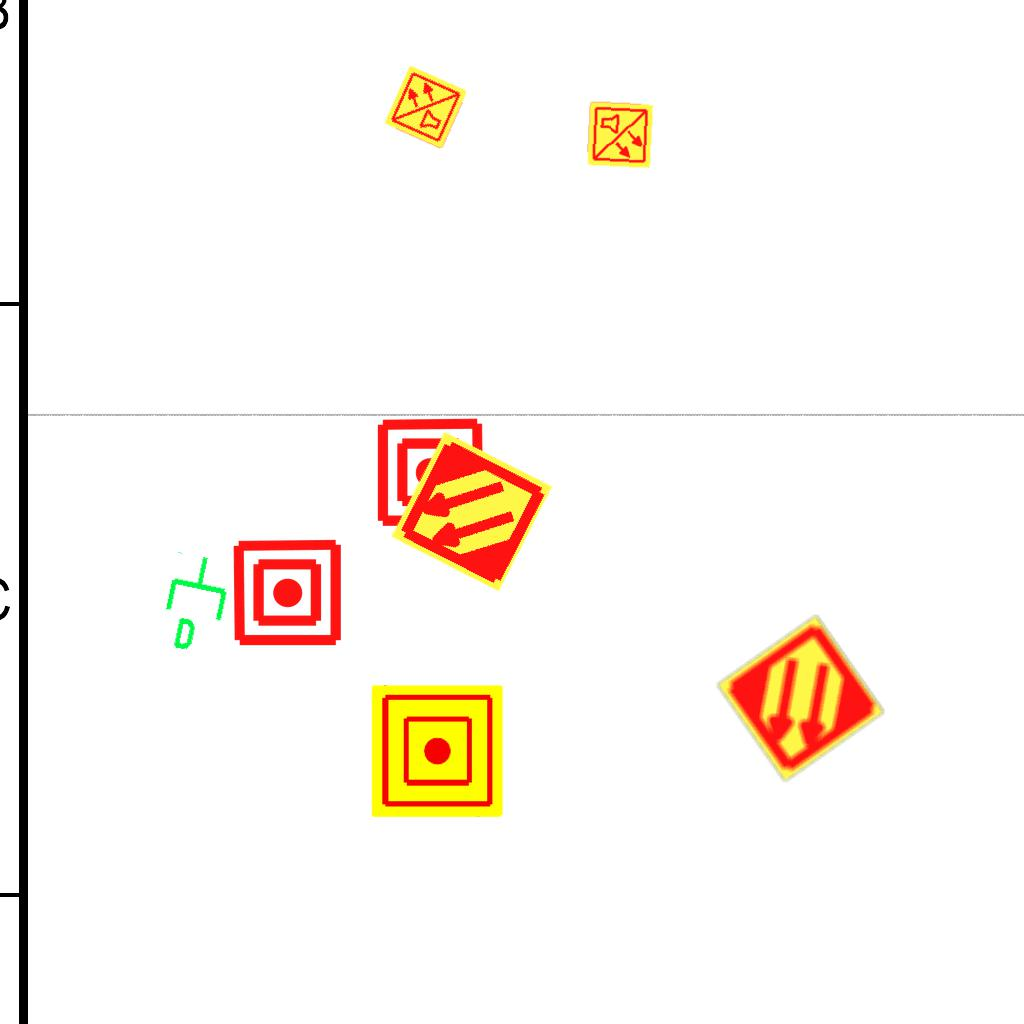ASR_Ansaugrauchmelder: (713, 611, 888, 786), (387, 427, 556, 596)
Datenanschluss_einfach: (153, 547, 242, 661)
NAM-Nichtautomatischer_Melder: (371, 685, 503, 817), (231, 536, 344, 649), (374, 416, 487, 529)
OKW_Multisensormelder_(Kombination_optischer_Rauch-Kahlenmonoxid_Waerme-Melder): (382, 63, 470, 151), (585, 100, 655, 170)
